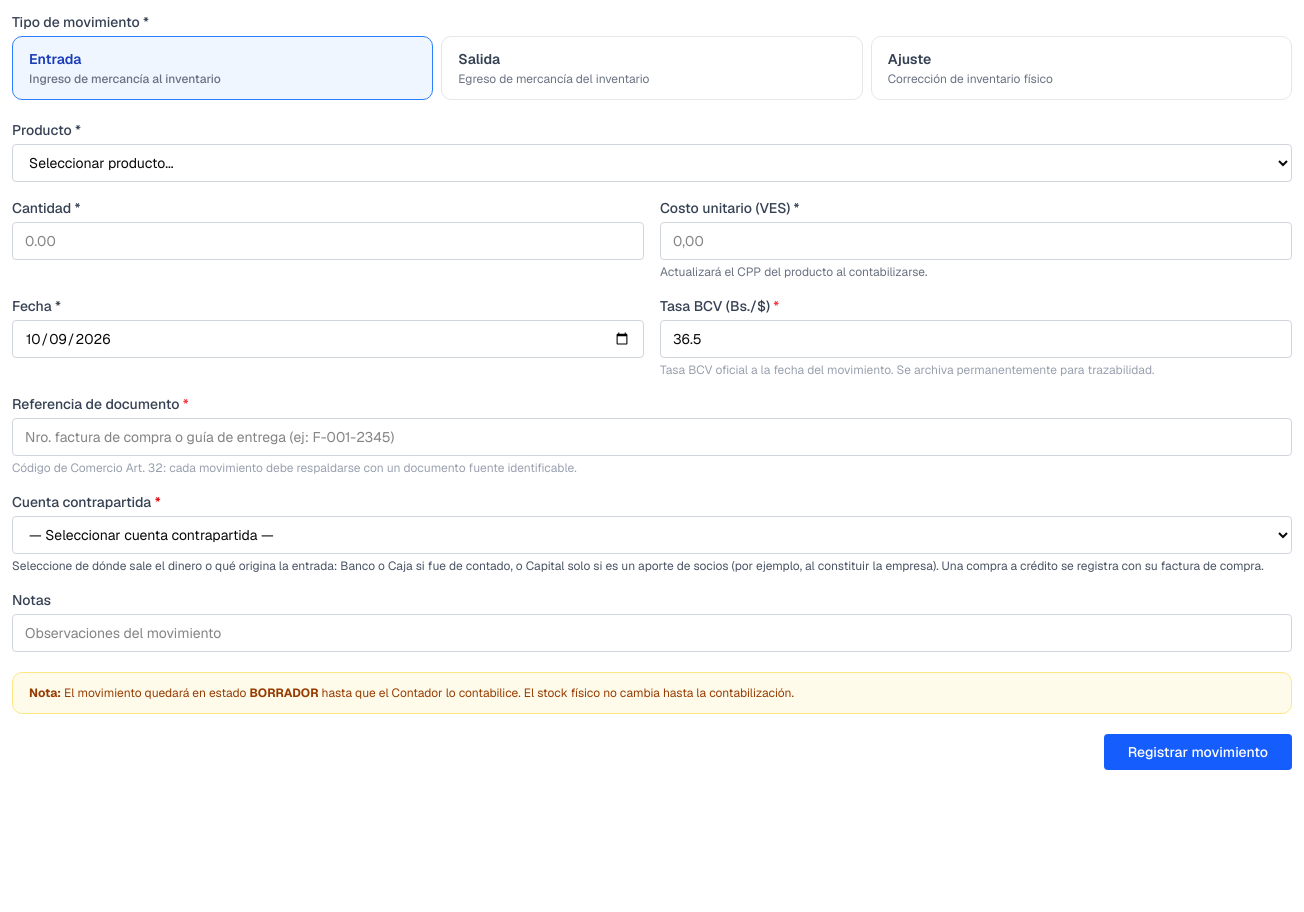
Test: MovementForm — contrapartida obligatoria en ENTRADA (SPEC-007) › AJUSTE no cambia (PA-4): selector requerido, con su ayuda de siempre y sin Patrimonio
Click the button "Ajuste Corrección de inventario físico" at (909, 59), box left=871, top=36, right=1292, bottom=100
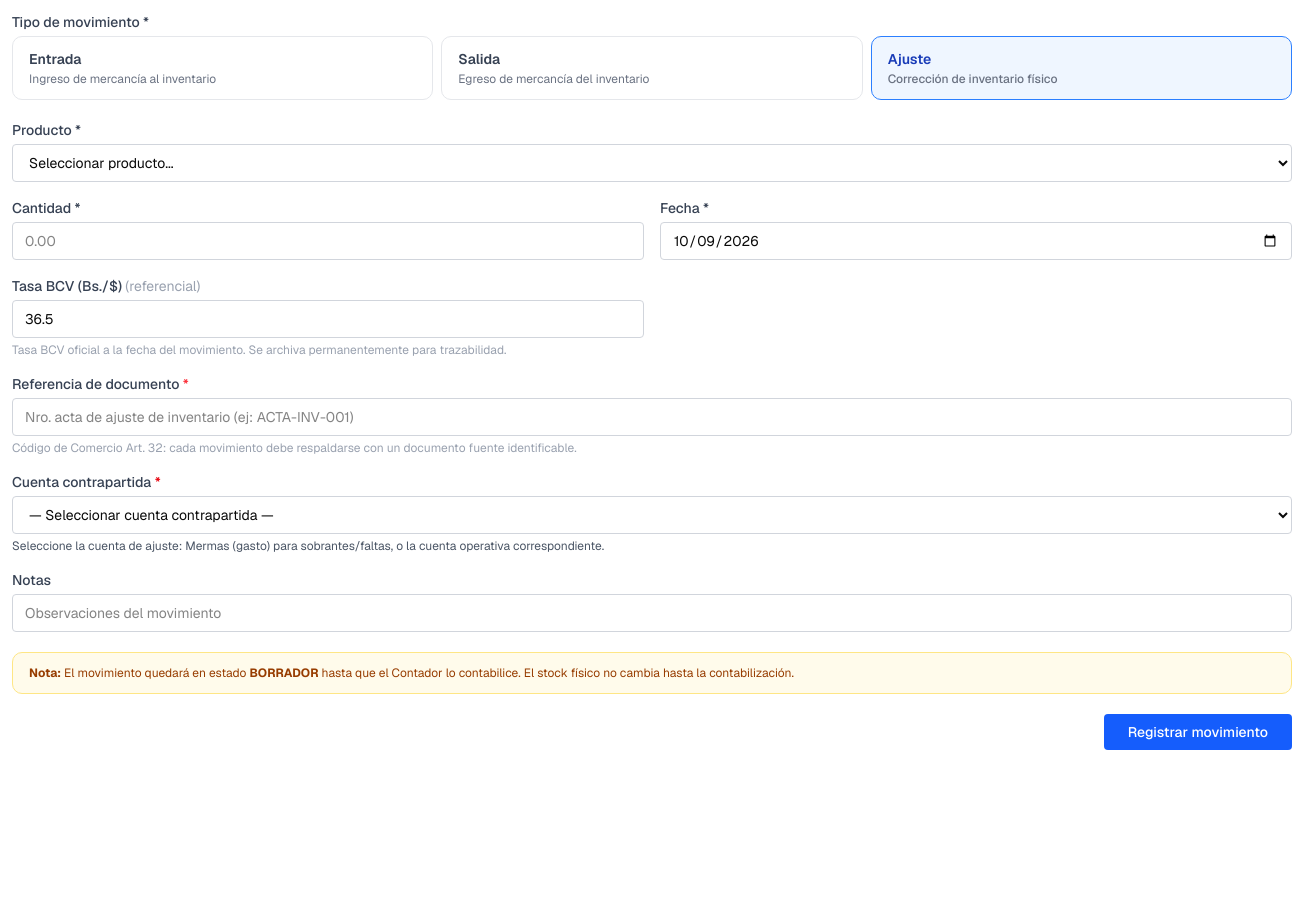
Check: the text "Seleccione la cuenta de ajuste: Mermas (gasto) para sobrantes/faltas" is shown, box left=12, top=538, right=604, bottom=554
